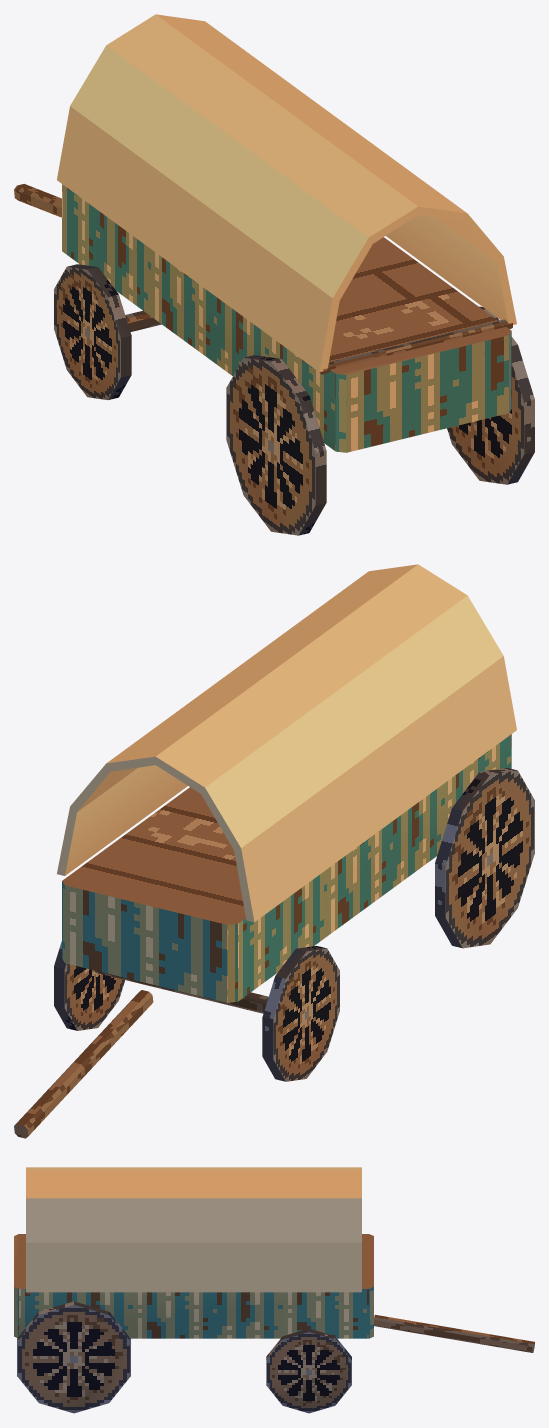
File: wprop.wagon.glb
The picture shows the model from 3 angles, top to bottom: view 1: azimuth 30°, elevation 25°; view 2: azimuth 150°, elevation 25°; view 3: azimuth 270°, elevation 25°; orthographic projection. The views are drawn at different scales.
Parts seen in each view (by area): view 1: kit_canvas, kit_box, kit_wheels, kit_bonnet, kit_tongue; view 2: kit_canvas, kit_box, kit_wheels, kit_tongue, kit_axles; view 3: kit_canvas, kit_wheels, kit_box, kit_tongue.
Part boxes in pixels (box(x1,y1,x2,y2)): kit_canvas: box(57, 14, 516, 372); kit_box: box(62, 184, 511, 452); kit_wheels: box(54, 264, 534, 535); kit_bonnet: box(319, 319, 512, 374); kit_tongue: box(14, 184, 61, 217); kit_canvas: box(57, 564, 516, 922); kit_box: box(62, 734, 511, 1002); kit_wheels: box(54, 768, 534, 1081); kit_tongue: box(14, 990, 153, 1138); kit_axles: box(94, 970, 268, 1013); kit_canvas: box(26, 1167, 361, 1292); kit_wheels: box(17, 1301, 351, 1413); kit_box: box(14, 1234, 373, 1338); kit_tongue: box(374, 1314, 534, 1352).
Bounding box in the file's own units: 1.62 × 2.3 × 5.21.
Materials: 6 (6 with a texture image).
